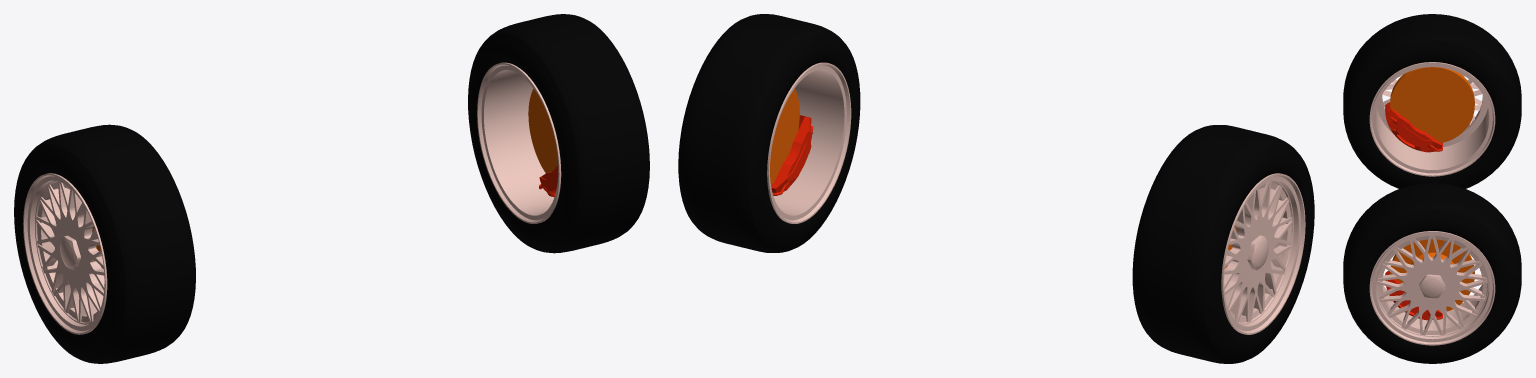
File: llantasd.fbx
3 views of the same model, side by side, from view 1: azimuth 30°, elevation 25°; view 2: azimuth 150°, elevation 25°; view 3: azimuth 270°, elevation 25° (orthographic). The views are drawn at different scales.
Visible parts, largest first — view 1: BMW_E30_M3_TIRE.002; view 2: BMW_E30_M3_TIRE.002; view 3: BMW_E30_M3_TIRE.002.
Boxes of the visible parts, left/top/right/bottom form: BMW_E30_M3_TIRE.002: left=14, top=14, right=649, bottom=363; BMW_E30_M3_TIRE.002: left=678, top=14, right=1314, bottom=363; BMW_E30_M3_TIRE.002: left=1343, top=14, right=1521, bottom=363.
Size of the model in its own units: 164 by 62.31 by 62.31.
